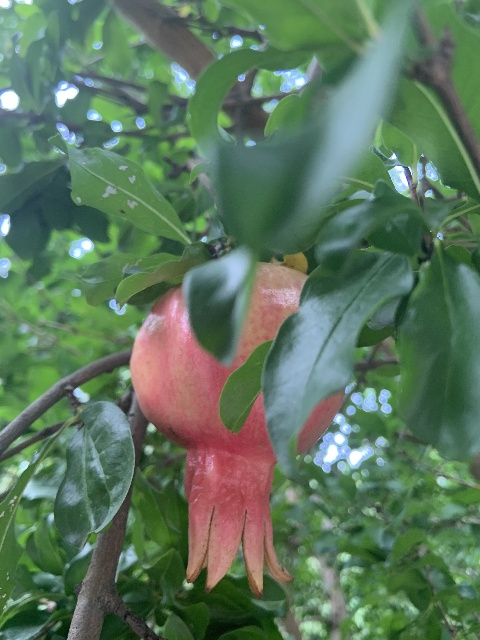ripe: (128, 261, 344, 593)
